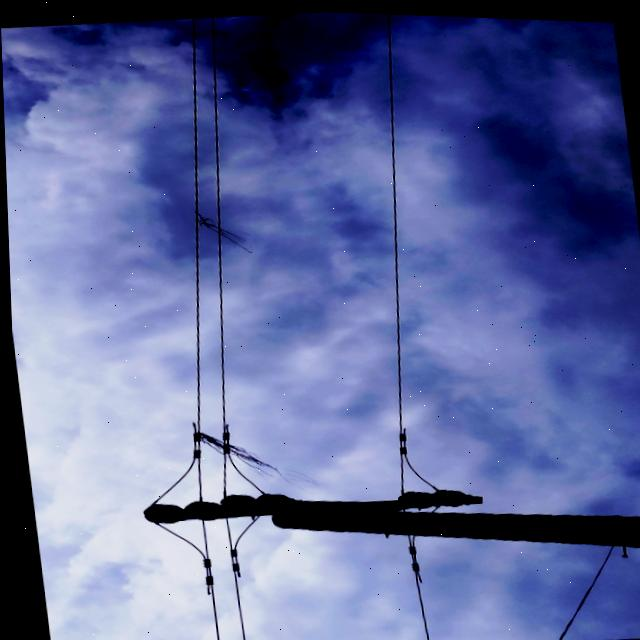obstruction: (185, 426, 294, 477), (182, 203, 262, 257)
poles: (136, 478, 640, 549)
wires: (382, 11, 432, 490), (188, 219, 226, 437), (185, 14, 226, 210), (540, 539, 612, 638), (194, 516, 244, 640), (189, 442, 265, 491), (398, 534, 432, 640)
